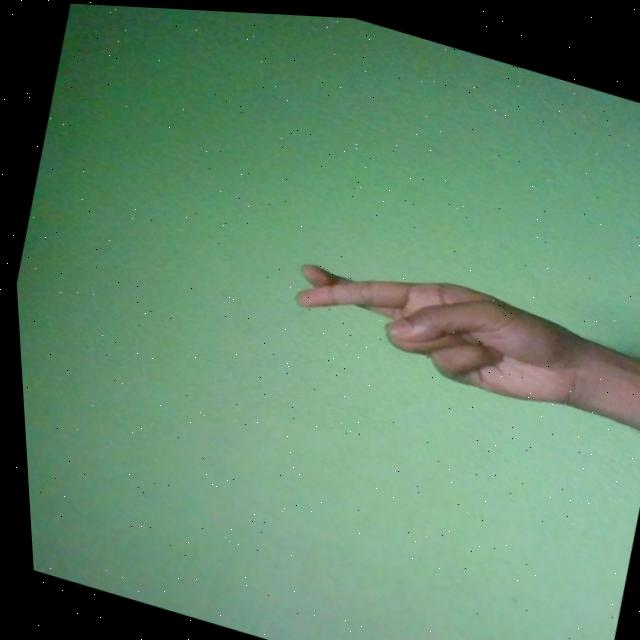Good Luck: (280, 235, 596, 412)
